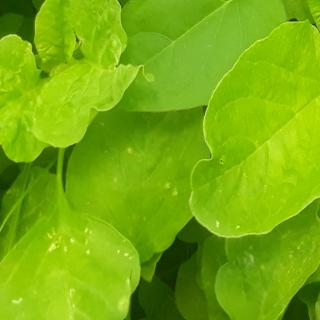virus_keriting: (108, 0, 156, 81)
